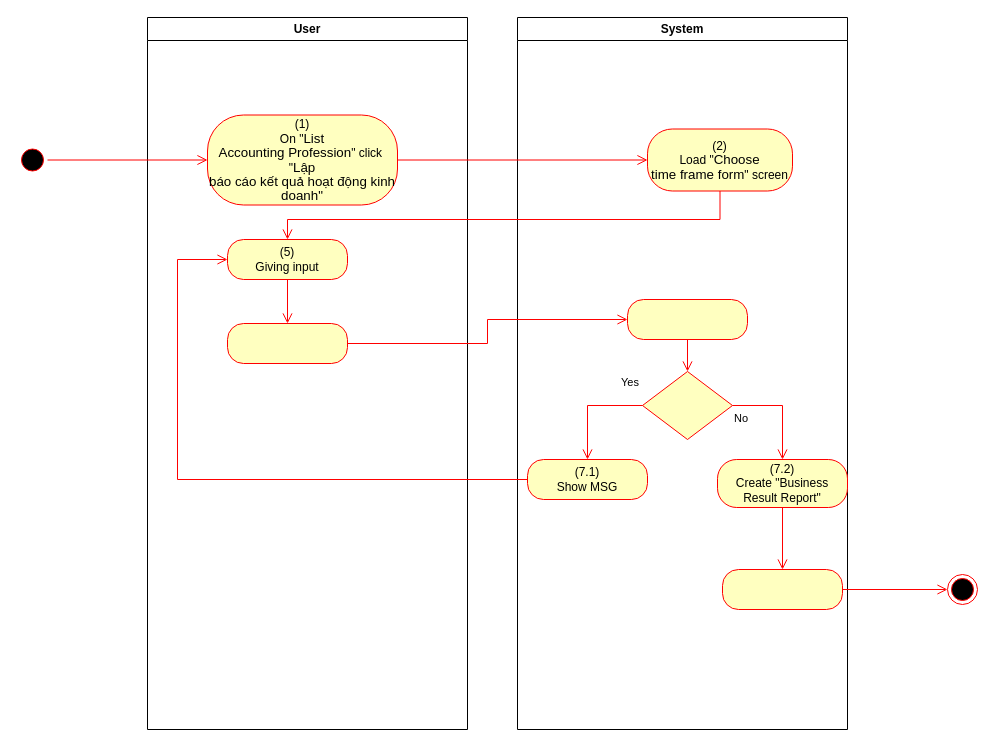
Image size: 995x747. Some labels were removed from this diagram. Here are the shapes that lost their labels. From the top down, the centre of each, then its label:
(687,319): (7) Validate
(287,343): (6) Click "xác nhận"
(782,589): (8) Export file
